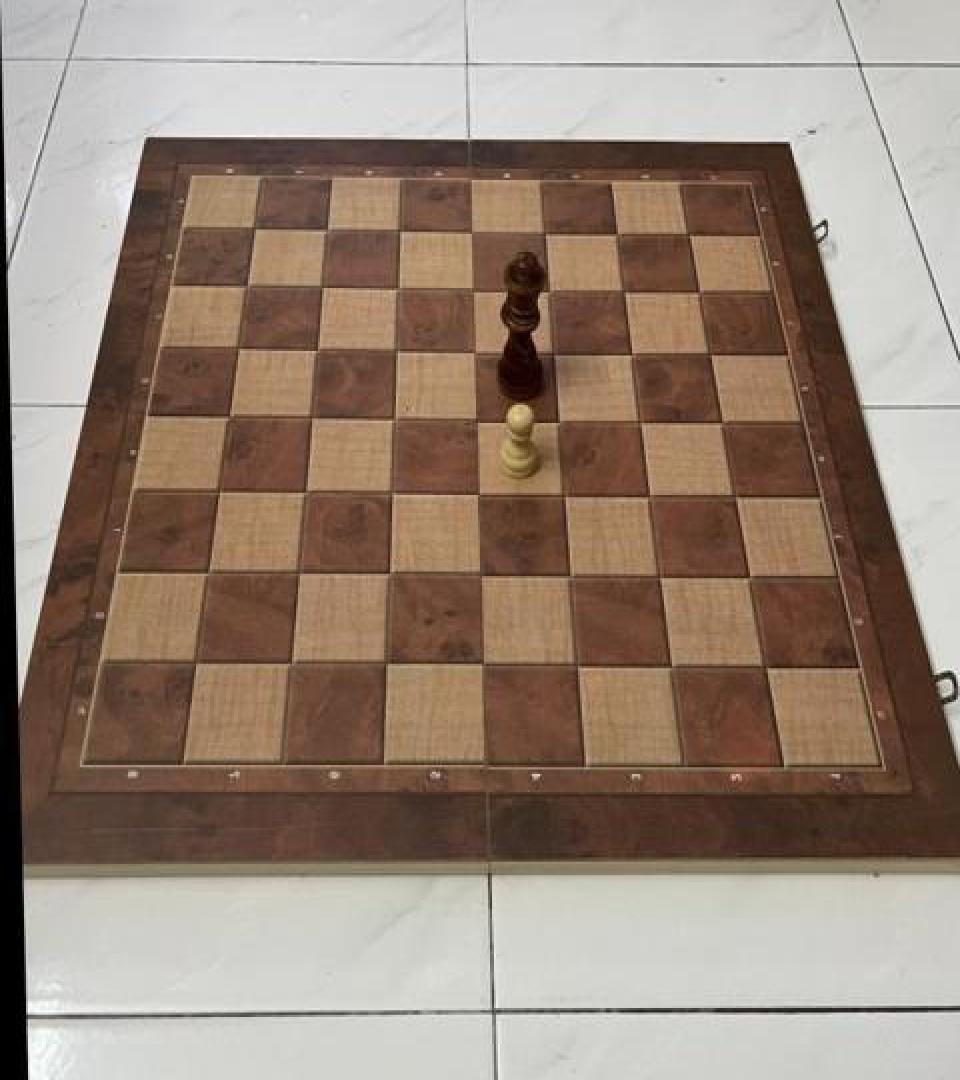xcorner: (683, 272, 717, 311), (706, 400, 740, 439), (561, 642, 595, 681), (655, 642, 689, 681), (240, 210, 274, 248), (312, 210, 346, 248), (385, 212, 419, 250), (457, 212, 491, 250), (529, 213, 563, 251), (601, 214, 635, 252), (673, 215, 707, 253), (232, 266, 266, 304), (307, 267, 341, 305), (383, 268, 417, 306), (458, 269, 492, 307), (533, 270, 567, 308), (608, 271, 642, 309), (224, 328, 258, 366), (302, 328, 336, 366), (381, 330, 415, 368), (459, 331, 493, 369), (538, 332, 572, 370), (616, 333, 650, 371), (694, 334, 728, 372), (215, 395, 249, 433), (297, 396, 331, 434), (379, 397, 413, 435), (461, 398, 495, 436), (543, 400, 577, 438), (624, 400, 658, 438), (205, 468, 239, 506), (291, 469, 325, 507), (377, 470, 411, 508), (463, 472, 497, 510), (548, 472, 582, 510), (634, 474, 668, 512), (719, 475, 753, 513), (194, 549, 228, 587), (284, 550, 318, 588), (374, 552, 408, 590), (464, 552, 498, 590), (554, 554, 588, 592), (644, 554, 678, 592), (733, 555, 767, 593), (182, 639, 216, 677), (277, 639, 311, 677), (372, 640, 406, 678), (466, 642, 500, 680), (749, 644, 783, 682)
